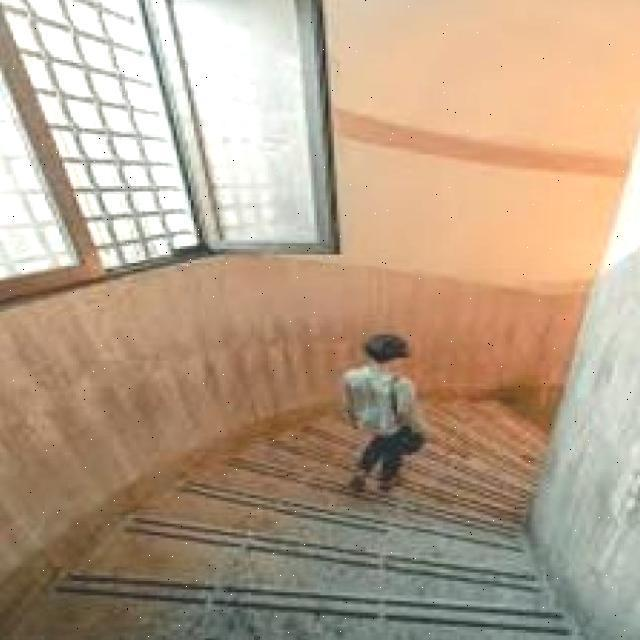stair: (103, 466, 520, 640)
